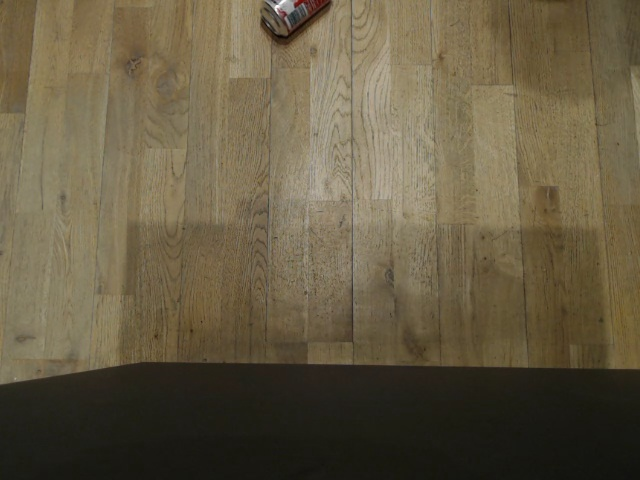cola: (256, 0, 333, 37)
